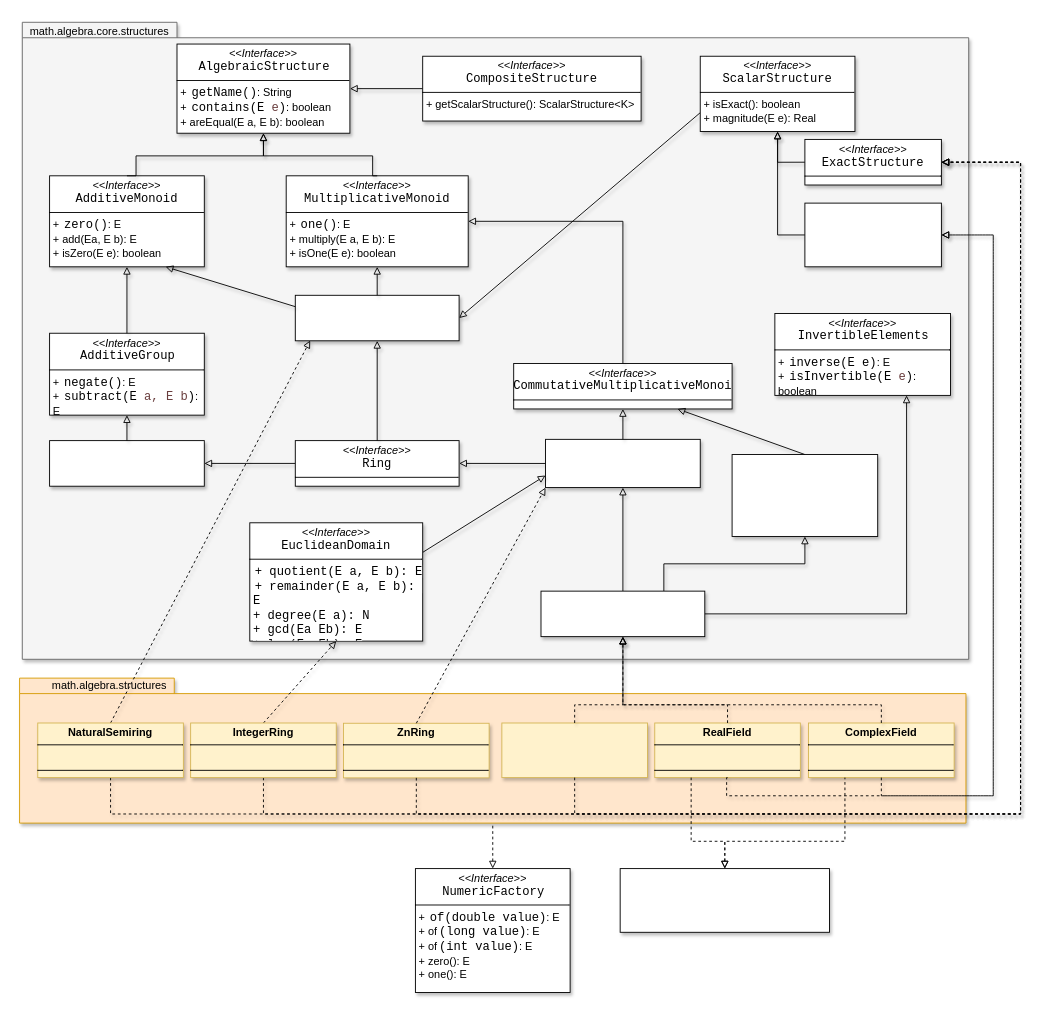
Image size: 1049x1015. Some labels were removed from this diagram. The centre of each missing label's shape, as x and y in pixels:
"<<Interface>> AbelianGroup" goes at (127,464).
"<<Interface>> ApproximateStructure + epsilon(): double" goes at (873,236).
"<<Interface>> CommutativeRing" goes at (623,464).
"<<Interface>> Field" goes at (623,615).
"<<Interface>> MultiplicativeGroup + inverse(E e) : E + divide(E a, E b ) : E" goes at (805,496).
"<<Interface>> NormedSpace + norm(V v) : Real" goes at (725,901).
"<<Interface>> Semiring" goes at (378,319).
"RationalField" goes at (575,751).
